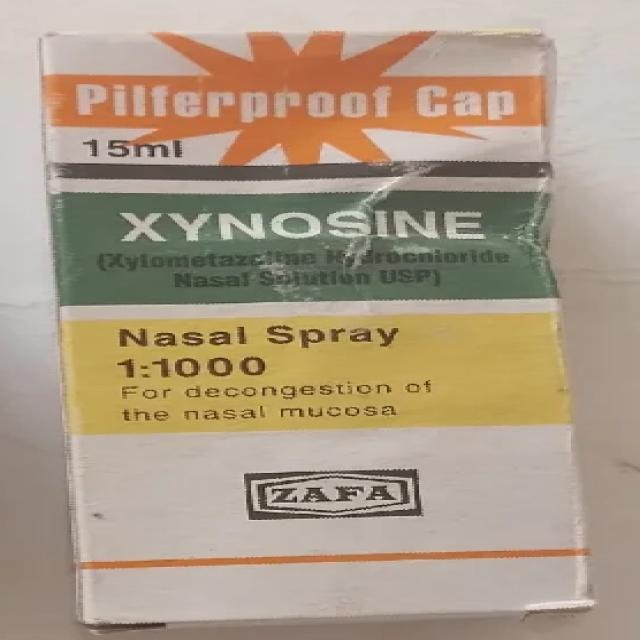drug-name: (111, 206, 491, 245)
